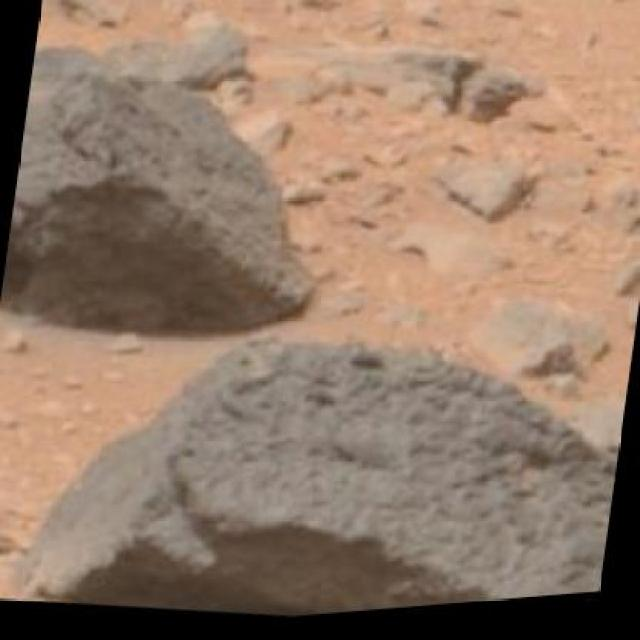rock: (3, 274, 631, 638), (0, 14, 354, 372), (458, 284, 620, 398), (422, 142, 547, 236), (559, 391, 624, 509), (94, 0, 354, 15)
